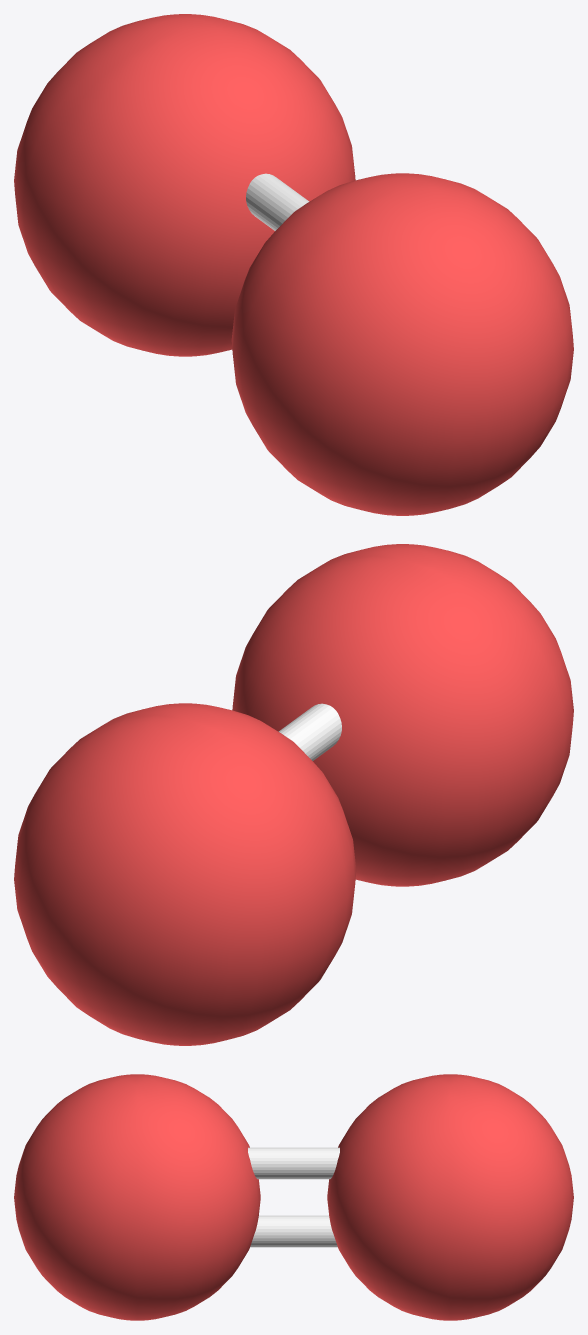
3 views of the same model, one above another, from view 1: azimuth 30°, elevation 25°; view 2: azimuth 150°, elevation 25°; view 3: azimuth 270°, elevation 25° (orthographic). The views are drawn at different scales.
Visible parts, largest first — view 1: 실린더; view 2: 실린더; view 3: 실린더.
Part boxes in pixels (<box>): 실린더: <box>14,14,573,515</box>; 실린더: <box>14,544,573,1045</box>; 실린더: <box>14,1074,573,1320</box>.
Bounding box in the file's own units: 197 × 197 × 447.
